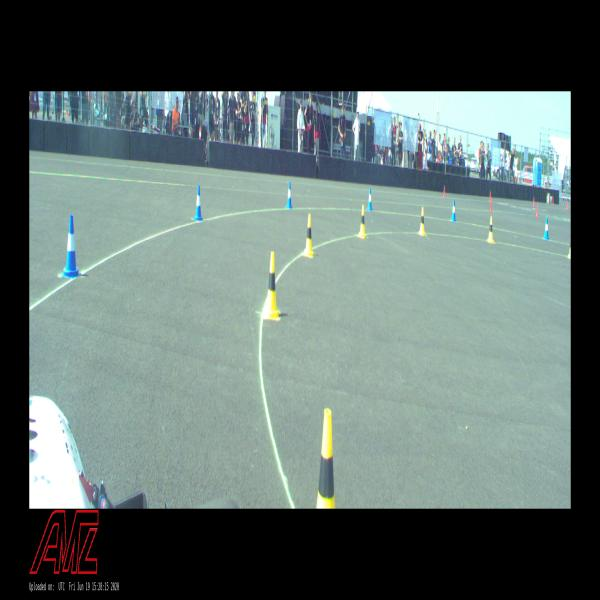blue_cone: (61, 215, 81, 277), (194, 186, 202, 220), (286, 181, 292, 209), (450, 200, 456, 222), (544, 218, 550, 239), (367, 189, 373, 210)
yellow_cone: (317, 408, 335, 508), (264, 252, 279, 320), (304, 214, 314, 256), (357, 205, 368, 238), (418, 208, 426, 235), (487, 217, 495, 243), (568, 241, 570, 259)
